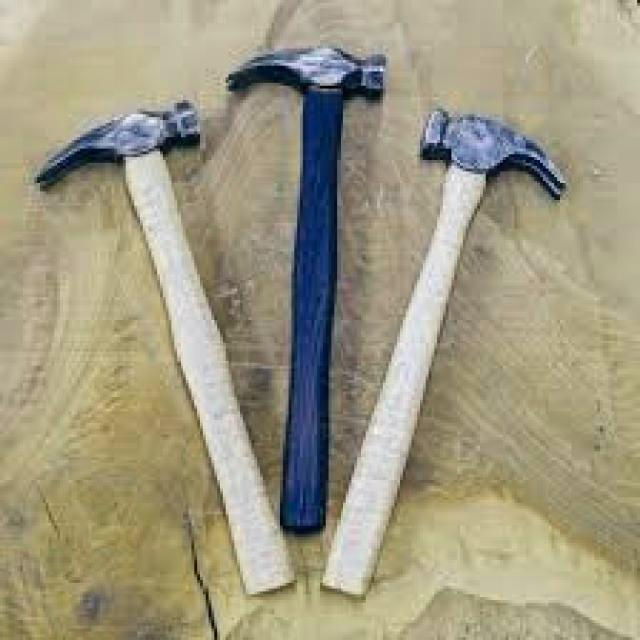hammer: (27, 91, 296, 603), (312, 101, 572, 604), (214, 36, 400, 544)
